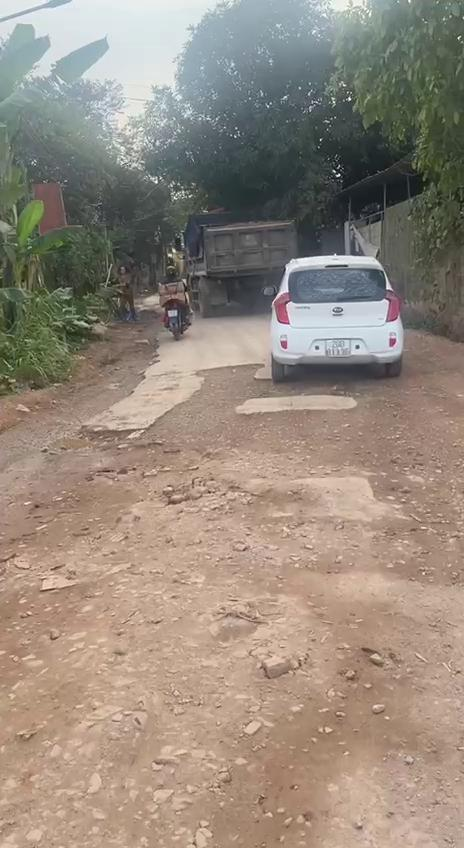pothole: (0, 424, 313, 746), (144, 366, 354, 544), (308, 364, 464, 586)
